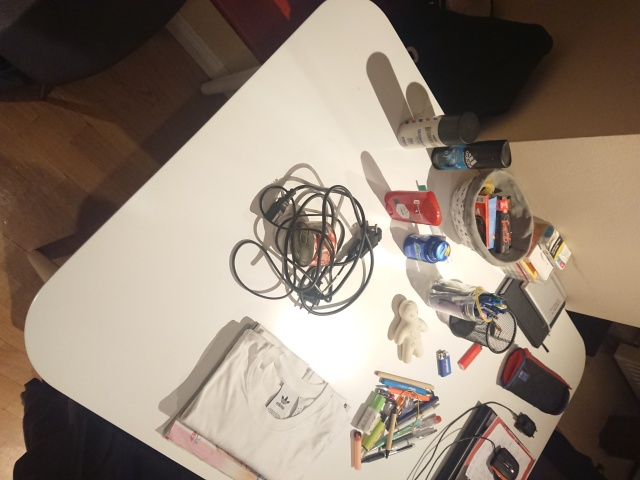Podravka Luncheon Meat 150g: (289, 218, 339, 269)
